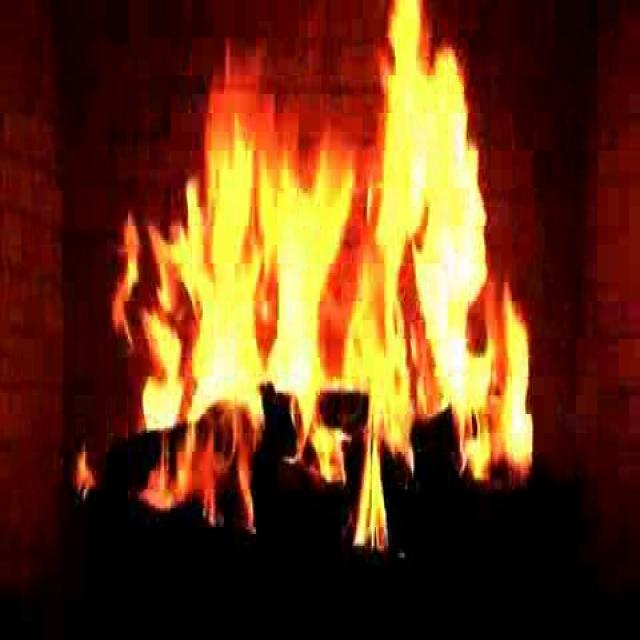fire: (144, 70, 498, 524)
